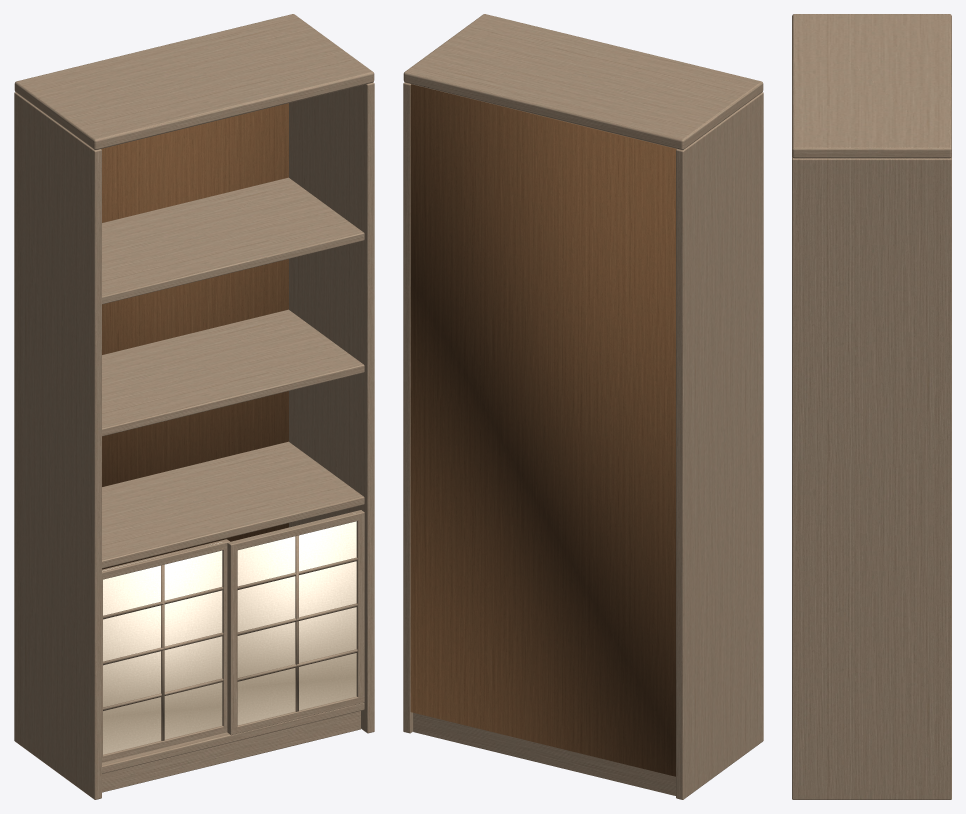
3 views of the same model, side by side, from view 1: azimuth 30°, elevation 25°; view 2: azimuth 150°, elevation 25°; view 3: azimuth 270°, elevation 25° (orthographic).
Visible parts, largest first — view 1: Left side, Back panel, Right side, Top, Washi panel 1, Washi panel 2, Shelf 4, Shelf 2, Shelf 3, Plinth, Shelf 1, Door stile 2.1 (+8 smaller); view 2: Back panel, Left side, Top, Right side, Plinth; view 3: Right side, Top.
Boxes of the visible parts, x1,y1,x2,y2 form: Left side: (14,92,101,799); Back panel: (101,103,288,569); Right side: (289,82,374,733); Top: (14,14,374,149); Washi panel 1: (102,542,222,754); Washi panel 2: (237,521,356,725); Shelf 4: (102,177,364,304); Shelf 2: (102,441,364,568); Shelf 3: (102,309,364,436); Plinth: (102,711,360,792); Shelf 1: (102,703,364,773); Door stile 2.1: (227,541,237,734); Back panel: (410,84,676,776); Left side: (676,92,763,799); Top: (403,14,763,149); Right side: (403,82,413,733); Plinth: (413,713,675,795); Right side: (792,157,951,799); Top: (792,14,951,158).
Size of the model in its own units: 0.8 by 1.8 by 0.4.
Materials: 3 (3 with a texture image).
